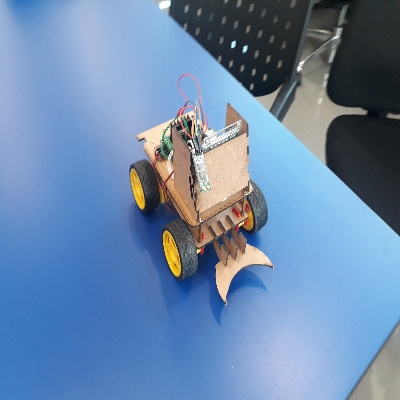Robot: (129, 100, 274, 307)
